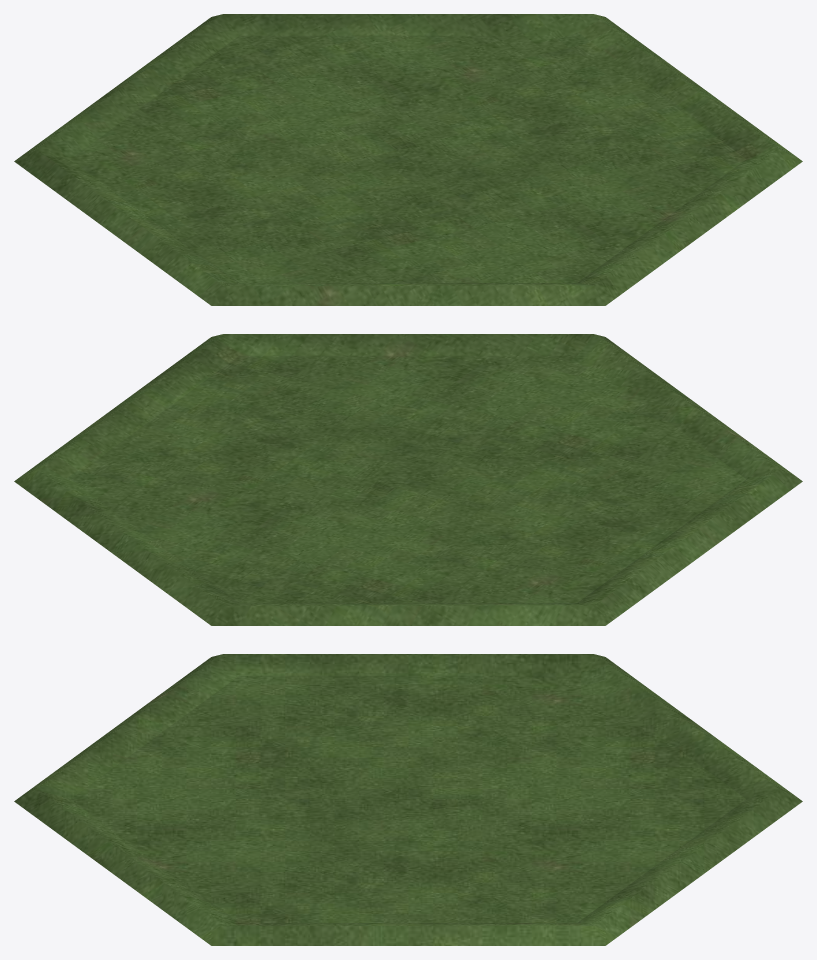
Rendered from plains.glb.
3 renders of one model, top to bottom at view 1: azimuth 30°, elevation 25°; view 2: azimuth 150°, elevation 25°; view 3: azimuth 270°, elevation 25°, orthographic.
Visible parts, largest first — view 1: HexagonTile.001; view 2: HexagonTile.001; view 3: HexagonTile.001.
Part boxes in pixels (bbox=[...]): HexagonTile.001: bbox=[14, 14, 802, 305]; HexagonTile.001: bbox=[14, 334, 802, 625]; HexagonTile.001: bbox=[14, 654, 802, 945].
Size of the model in its own units: 1.73 by 0.0316 by 2.
1 material, 1 textured.
